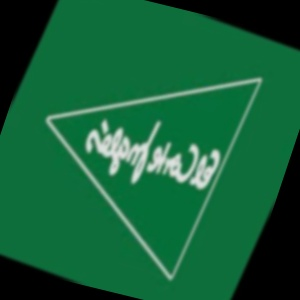corte_ingles: (148, 116, 292, 154)
